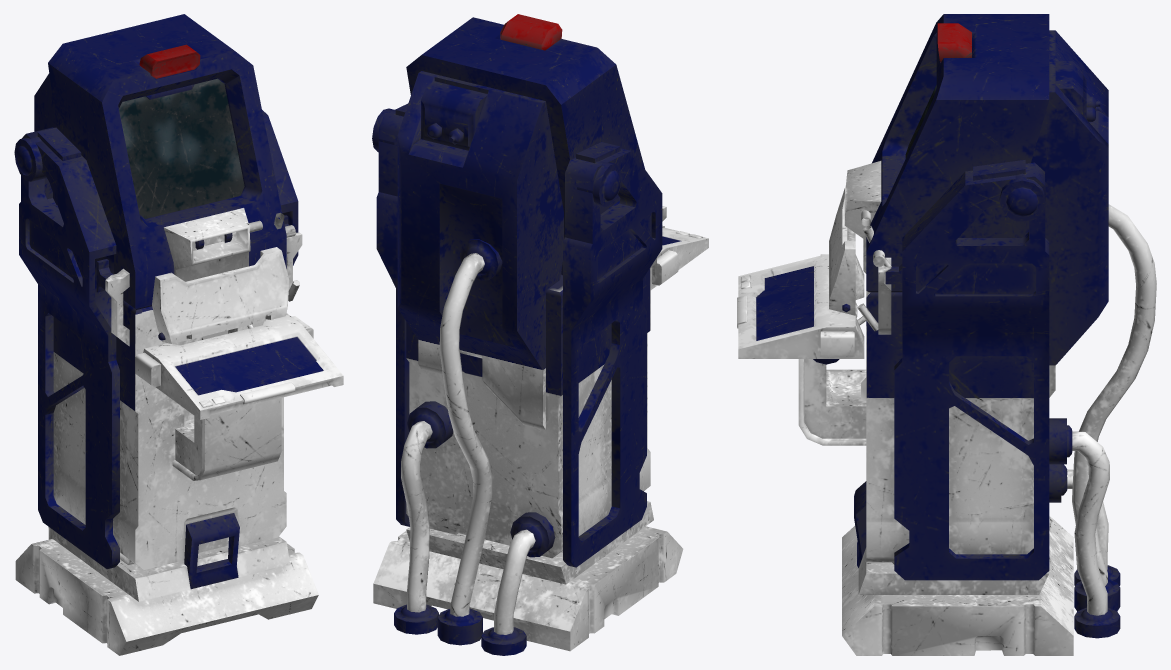
File: Terminal.fbx
The picture shows the model from 3 angles, left to right: view 1: azimuth 30°, elevation 25°; view 2: azimuth 150°, elevation 25°; view 3: azimuth 270°, elevation 25°; orthographic projection. The views are drawn at different scales.
Parts seen in each view (by area): view 1: Empty; view 2: Empty; view 3: Empty.
Part boxes in pixels (x1,y1,x2,y2): Empty: (14, 14, 343, 655); Empty: (372, 14, 708, 655); Empty: (737, 14, 1156, 655).
Size of the model in its own units: 81.5 by 184 by 122.
1 material, 1 textured.
